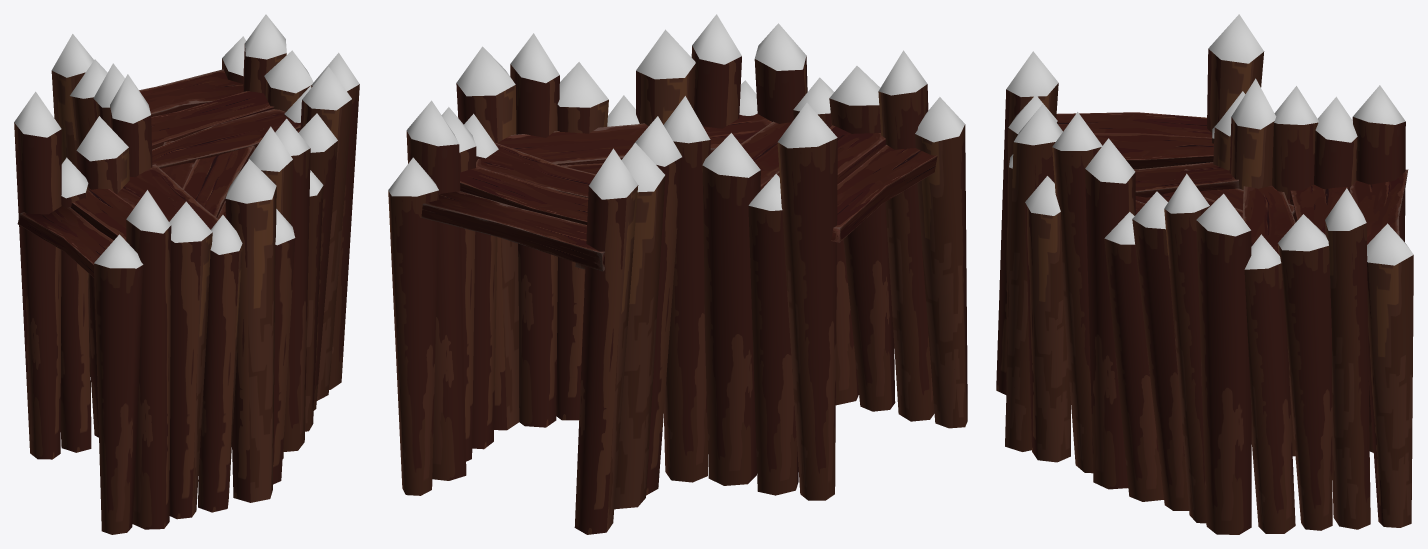
The model's file is SM_PROP_wall_wood_corner_01.fbx.
The picture shows the model from 3 angles, left to right: view 1: azimuth 30°, elevation 25°; view 2: azimuth 150°, elevation 25°; view 3: azimuth 270°, elevation 25°; orthographic projection. The views are drawn at different scales.
Parts seen in each view (by area): view 1: SM_PROP_wall_wood_corner_01; view 2: SM_PROP_wall_wood_corner_01; view 3: SM_PROP_wall_wood_corner_01.
Part boxes in pixels (x1,y1,x2,y2): SM_PROP_wall_wood_corner_01: (14, 14, 359, 534); SM_PROP_wall_wood_corner_01: (388, 14, 967, 534); SM_PROP_wall_wood_corner_01: (996, 14, 1413, 534).
Bounding box in the file's own units: 540 × 521 × 533.
